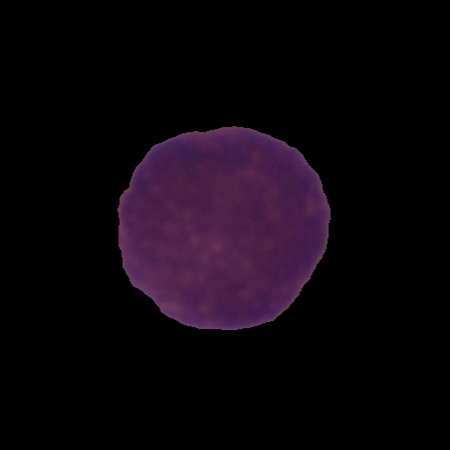HEM: (114, 123, 334, 334)
